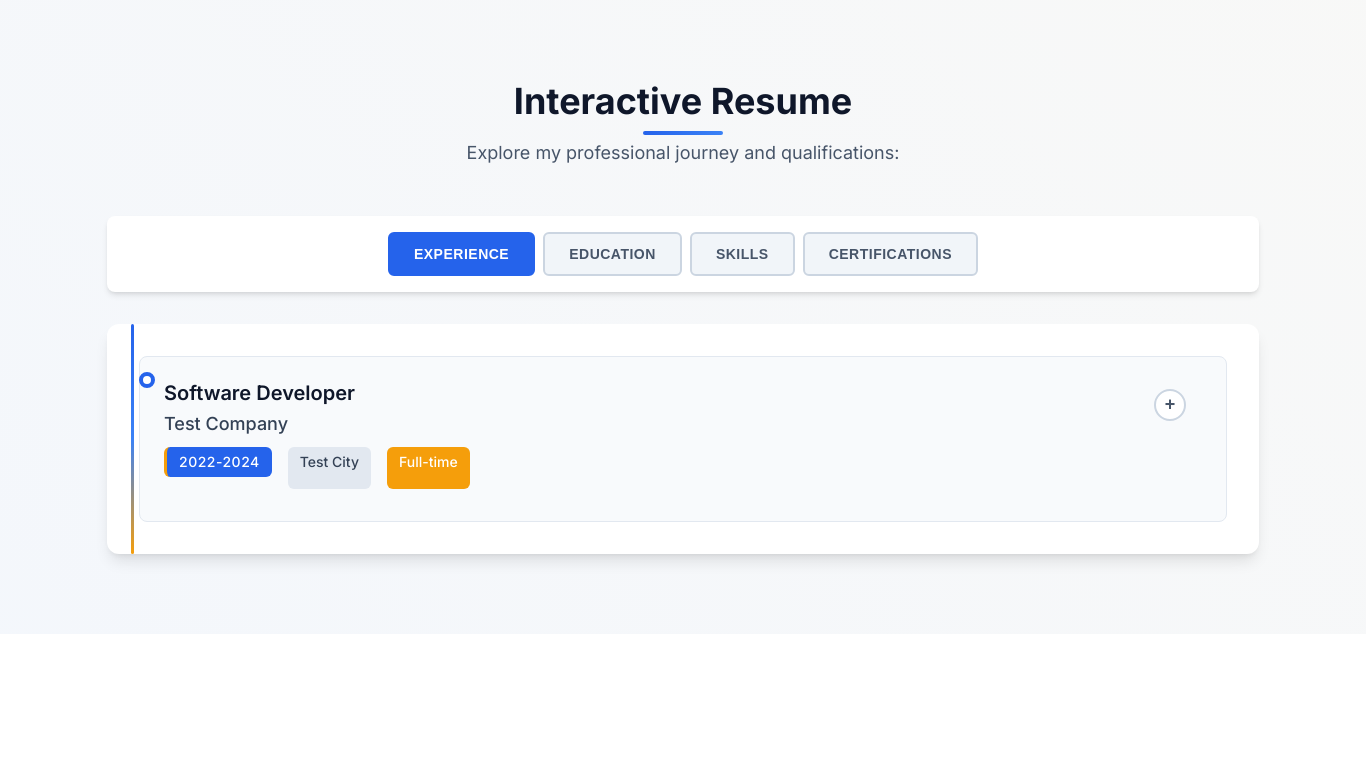
Test case: InteractiveResume Component › clicking education tab displays education content
This screenshot has width=1366, height=768.
Click the button "Education" at (613, 254), box [543,232,682,276]
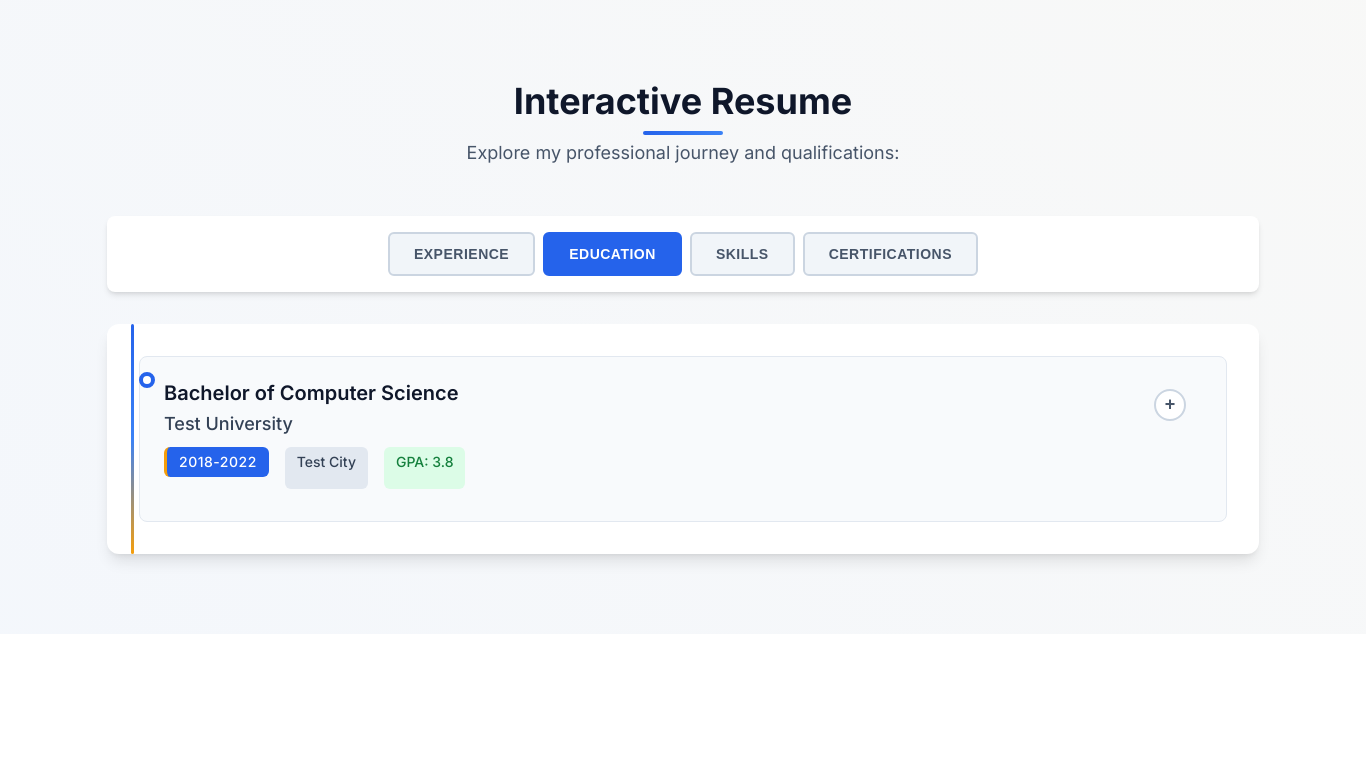
Expected: the heading "Bachelor of Computer Science" is shown, [164,381,458,405]
Expected: the heading "Test University" is shown, [164,413,293,434]
